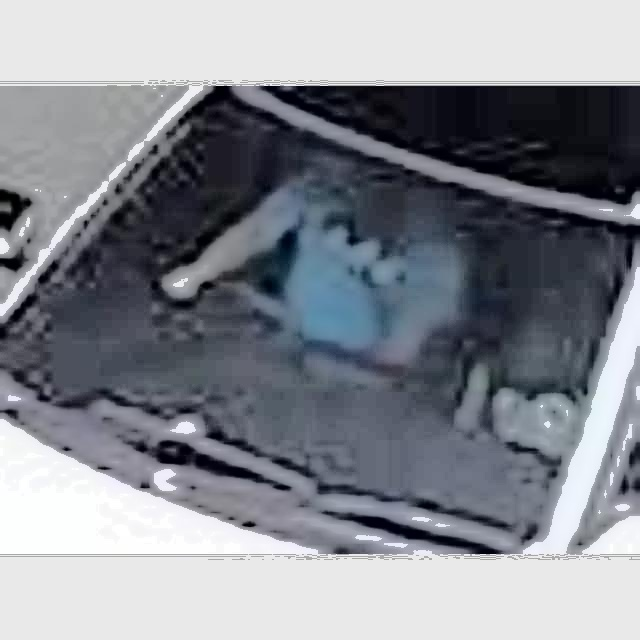tidak-pakai: (215, 124, 469, 390)
